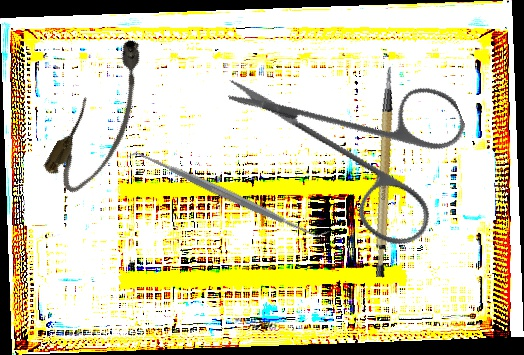Cannula: (38, 32, 169, 201)
Iris Scissors: (222, 3, 499, 287)
Scalpel Handle: (346, 65, 427, 279)
Spatula Surgical: (126, 138, 331, 251)
